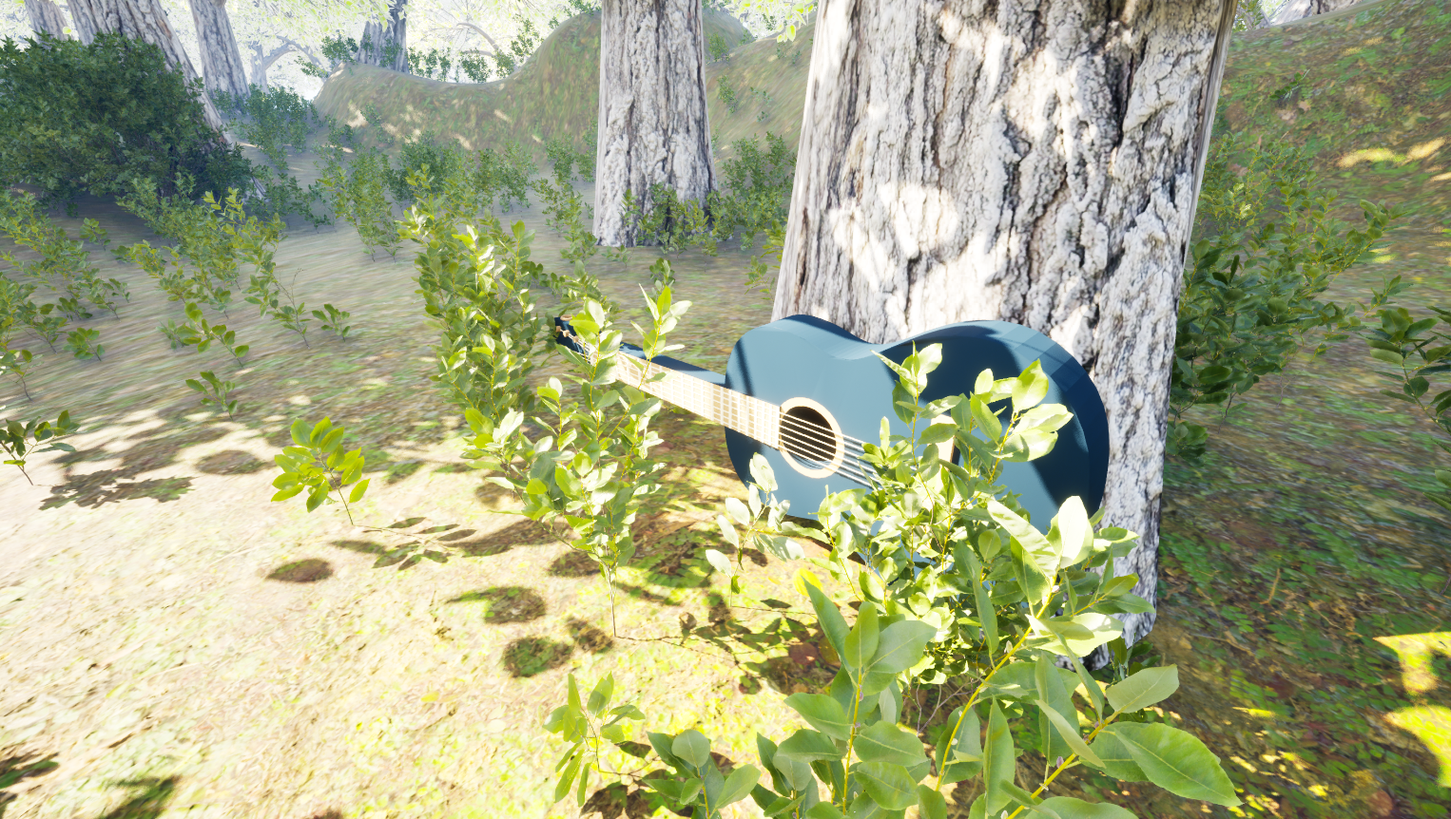Guitar: (528, 237, 1148, 678)
